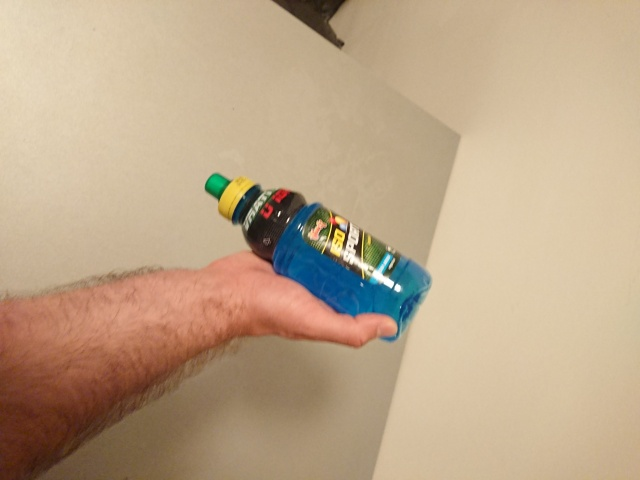Vindi Iso Sport Forest Strawberries 500mL: (203, 171, 433, 343)
